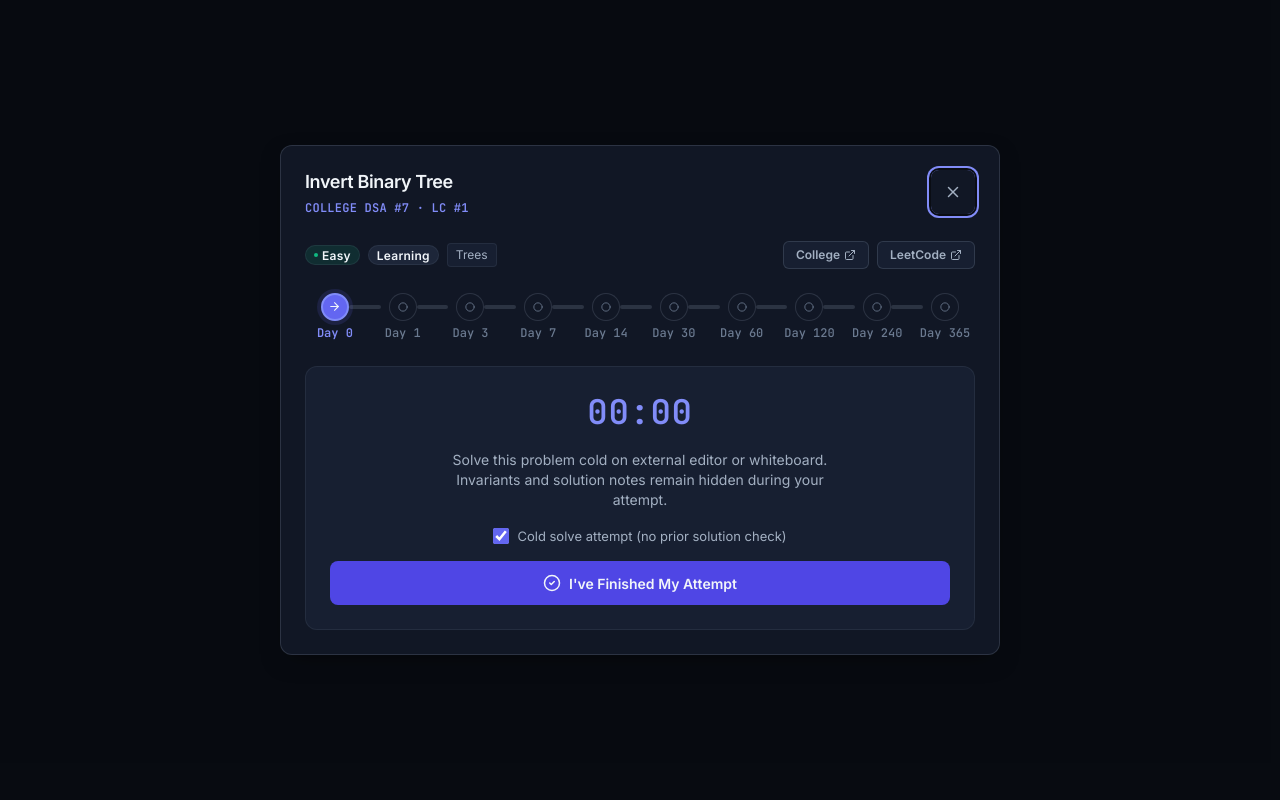
Test: RecallSessionModal component › advances from ATTEMPT to EVALUATE step when clicking Finish Attempt
This screenshot has width=1280, height=800.
Click the button "I've Finished My Attempt" at (640, 583), box [330,561,950,605]
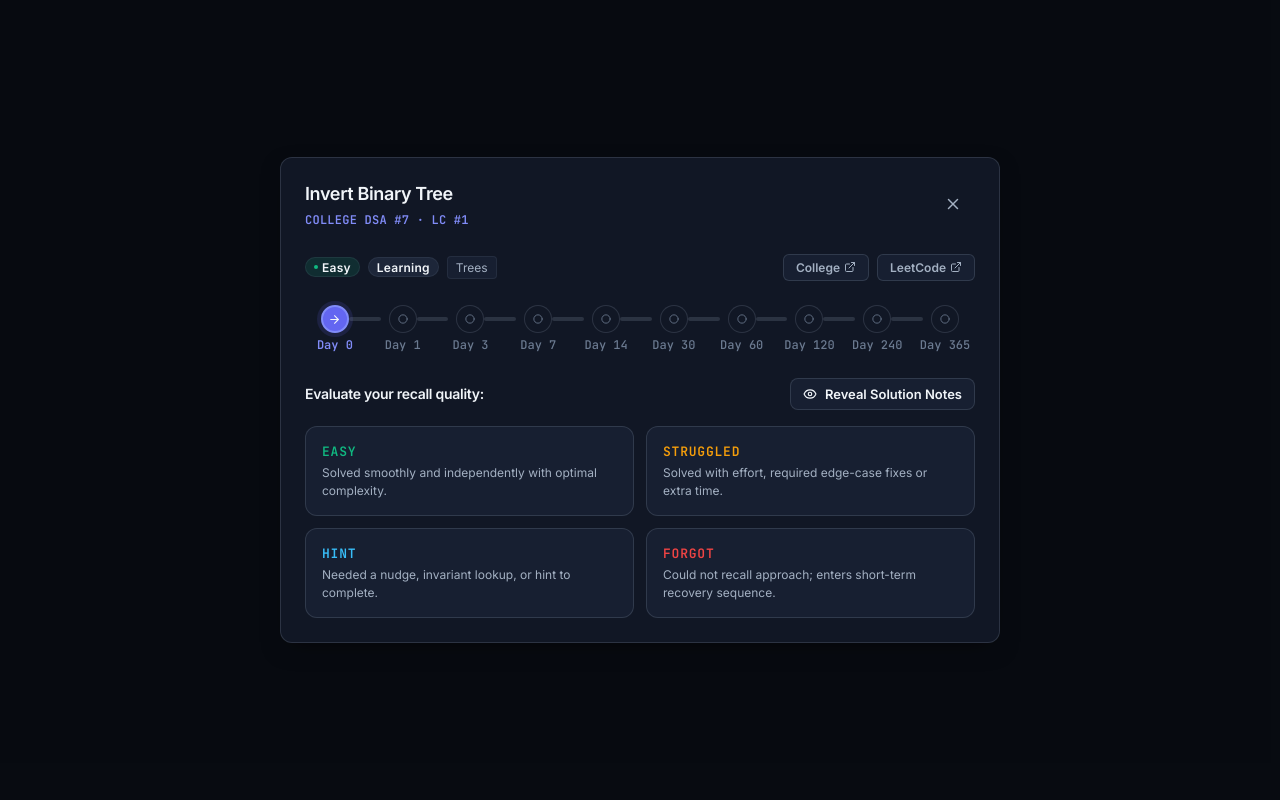
Now the heading "Evaluate your recall quality:" is shown, box [305,384,484,405]
Now the button "Reveal Solution Notes" is shown, box [790,378,975,410]
Now the button "EASY" is shown, box [305,426,634,516]
